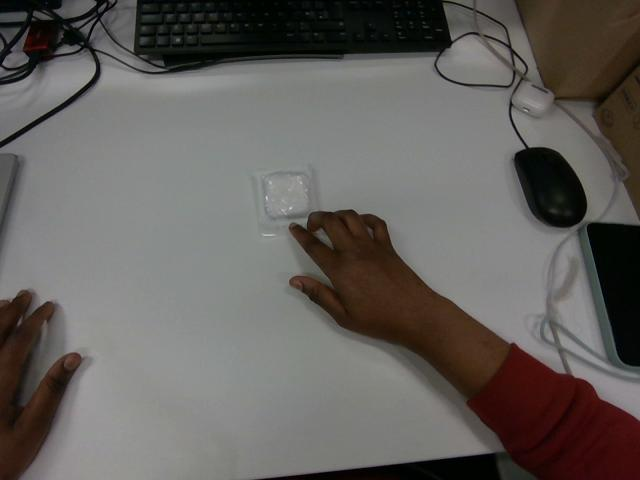gauze: (251, 167, 317, 236)
